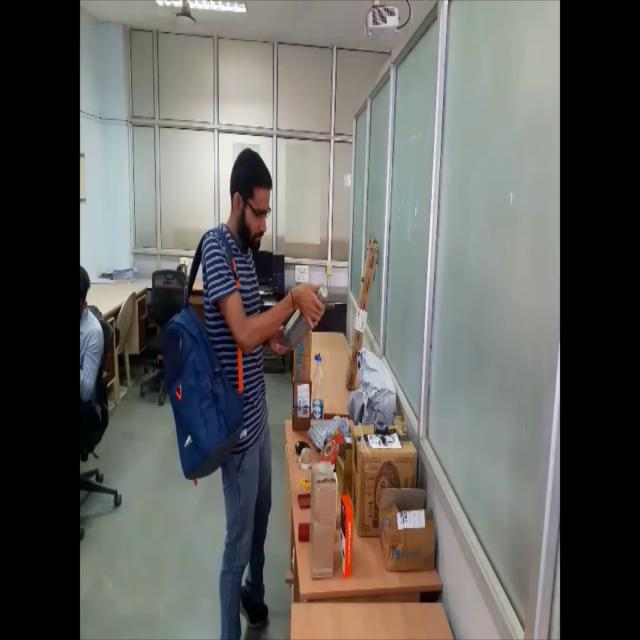normal: (159, 145, 330, 633)
